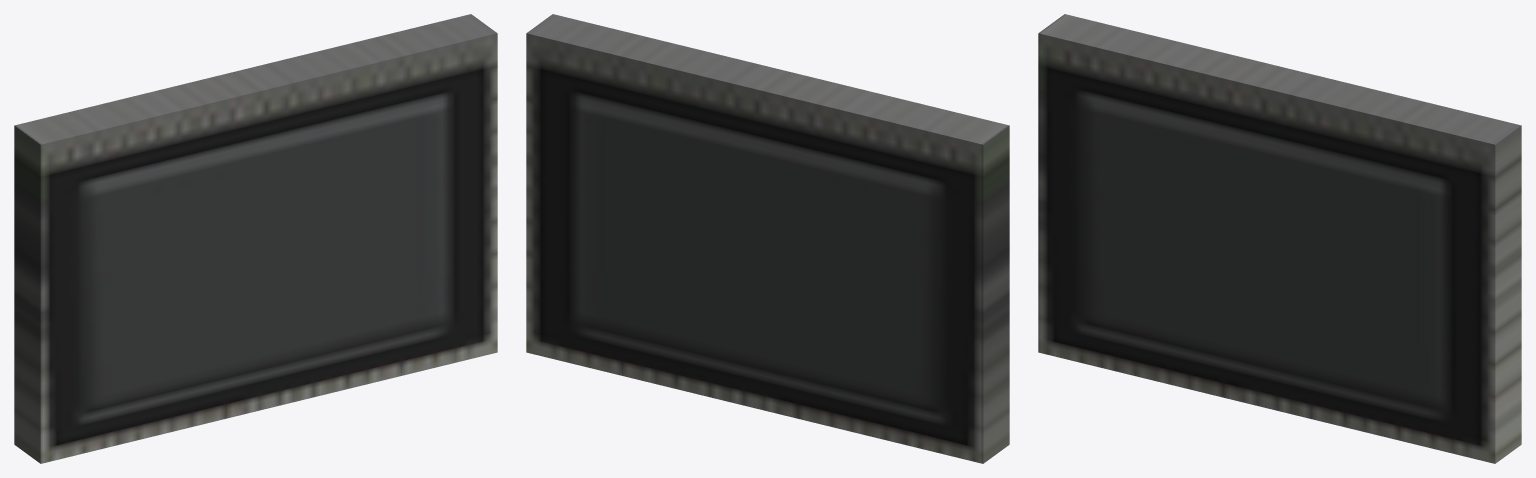
File: LOD_TVs_02.fbx
The picture shows the model from 3 angles, left to right: view 1: azimuth 30°, elevation 25°; view 2: azimuth 150°, elevation 25°; view 3: azimuth 330°, elevation 25°; orthographic projection.
Visible parts, largest first — view 1: LOD_TVs_WithEdge; view 2: LOD_TVs_WithEdge; view 3: LOD_TVs_WithEdge.
Boxes of the visible parts, <box> form: LOD_TVs_WithEdge: <box>14,14,497,463</box>; LOD_TVs_WithEdge: <box>526,14,1009,463</box>; LOD_TVs_WithEdge: <box>1038,14,1521,463</box>.
Bounding box in the file's own units: 0.5096 × 0.3402 × 0.051.
